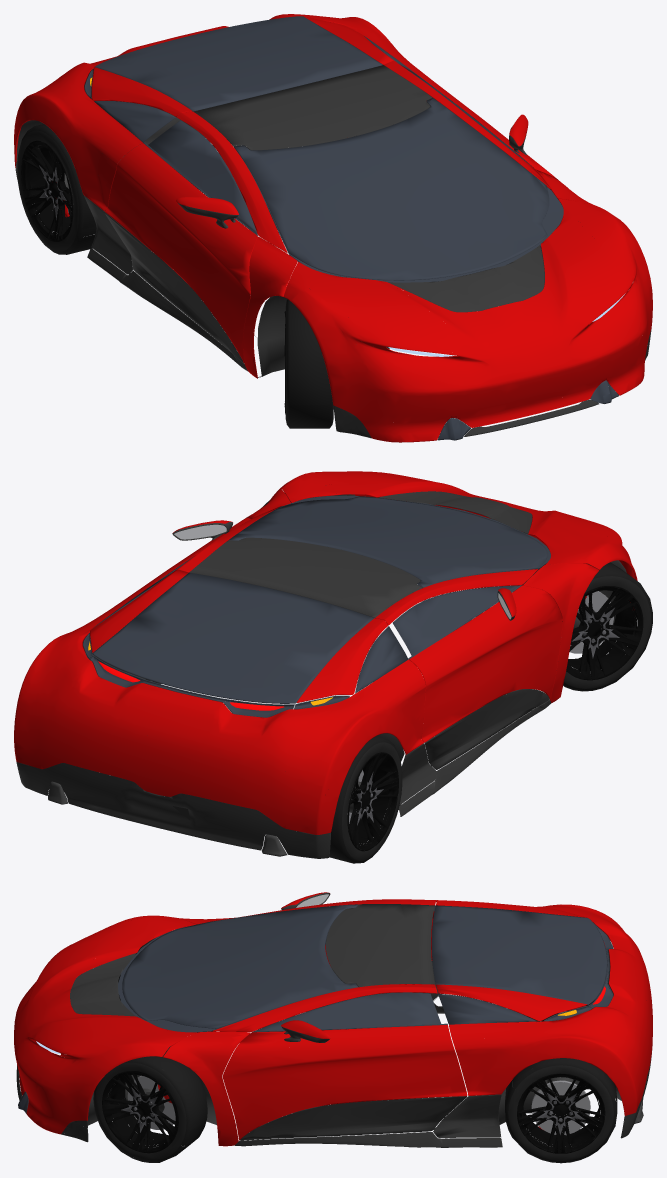
Rendered from champion.glb.
3 views of the same model, one above another, from view 1: azimuth 30°, elevation 25°; view 2: azimuth 150°, elevation 25°; view 3: azimuth 270°, elevation 25° (orthographic). The views are drawn at different scales.
Parts seen in each view (by area): view 1: Body, Wheel_RR, Wheel_FR; view 2: Body, Wheel_FR, Wheel_RR; view 3: Body, Wheel_FL, Wheel_RL.
Boxes of the visible parts, x1=… form: Body: x1=14, y1=14, x2=652, y2=442; Wheel_RR: x1=17, y1=124, x2=105, y2=254; Wheel_FR: x1=284, y1=299, x2=333, y2=428; Body: x1=14, y1=471, x2=637, y2=858; Wheel_FR: x1=562, y1=562, x2=652, y2=691; Wheel_RR: x1=329, y1=736, x2=402, y2=863; Body: x1=14, y1=892, x2=652, y2=1147; Wheel_FL: x1=93, y1=1050, x2=207, y2=1162; Wheel_RL: x1=505, y1=1058, x2=617, y2=1163.
Size of the model in its own units: 2.54 by 1.15 by 4.36.
